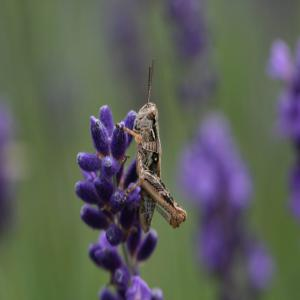locust: (110, 41, 190, 237)
